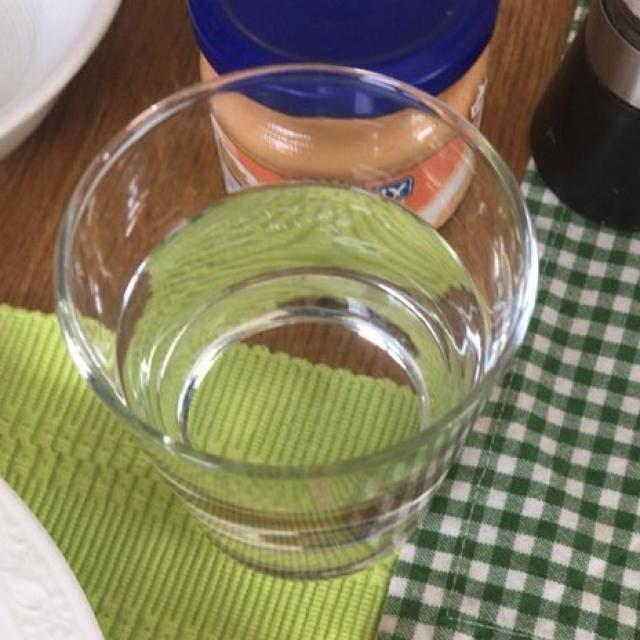water: (111, 194, 497, 574)
